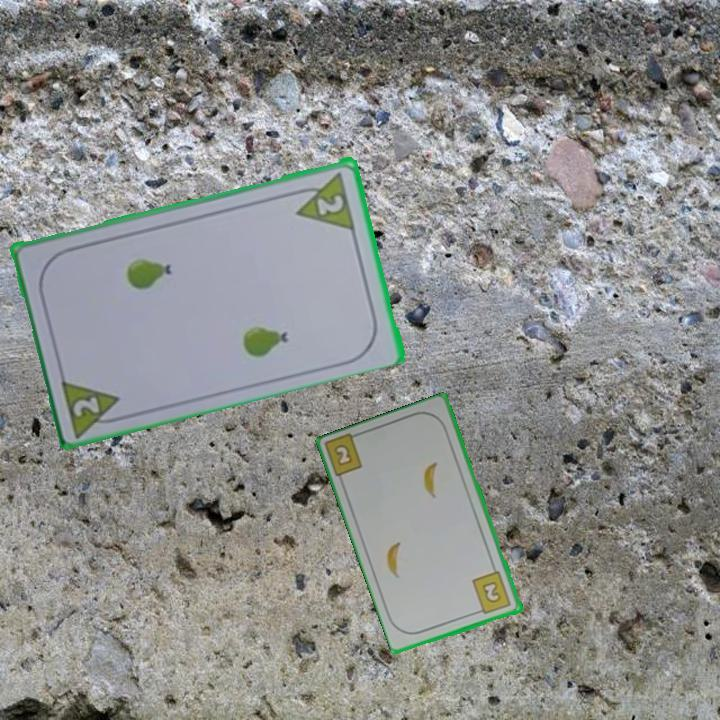2b: (469, 568, 514, 617), (330, 441, 356, 469)
2p: (57, 374, 129, 438), (313, 190, 347, 218)
